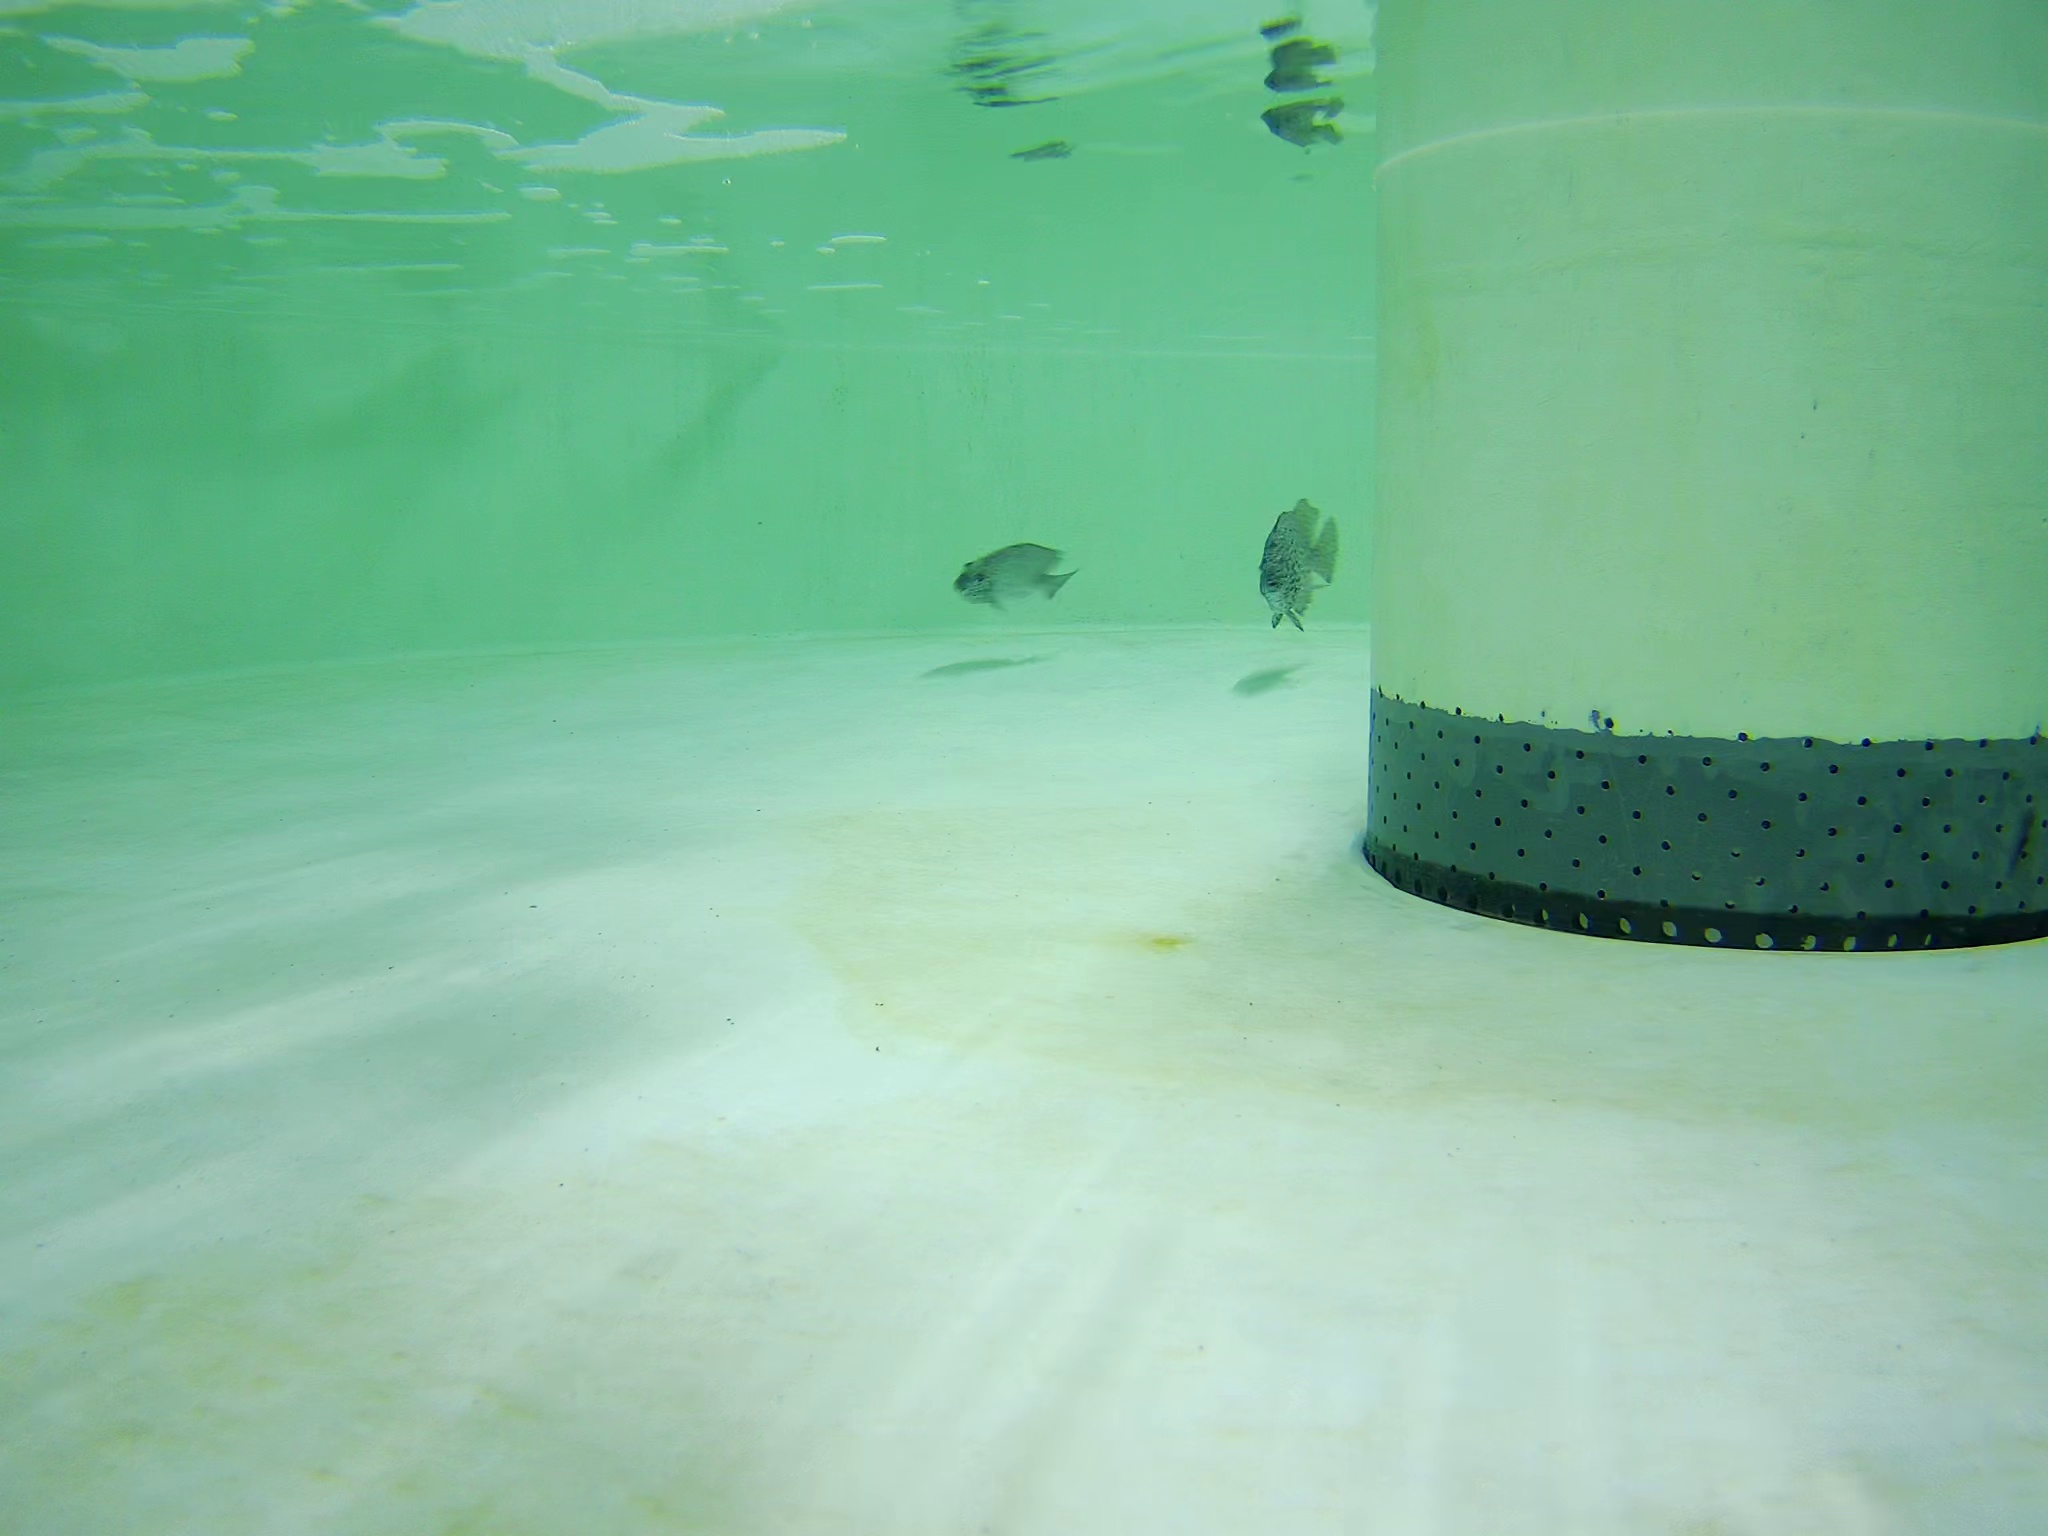fish: (1250, 494, 1345, 637), (942, 539, 1066, 626)
